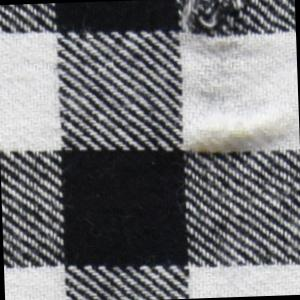Damage: (177, 1, 249, 52)
Wrinkle: (186, 111, 291, 163)
